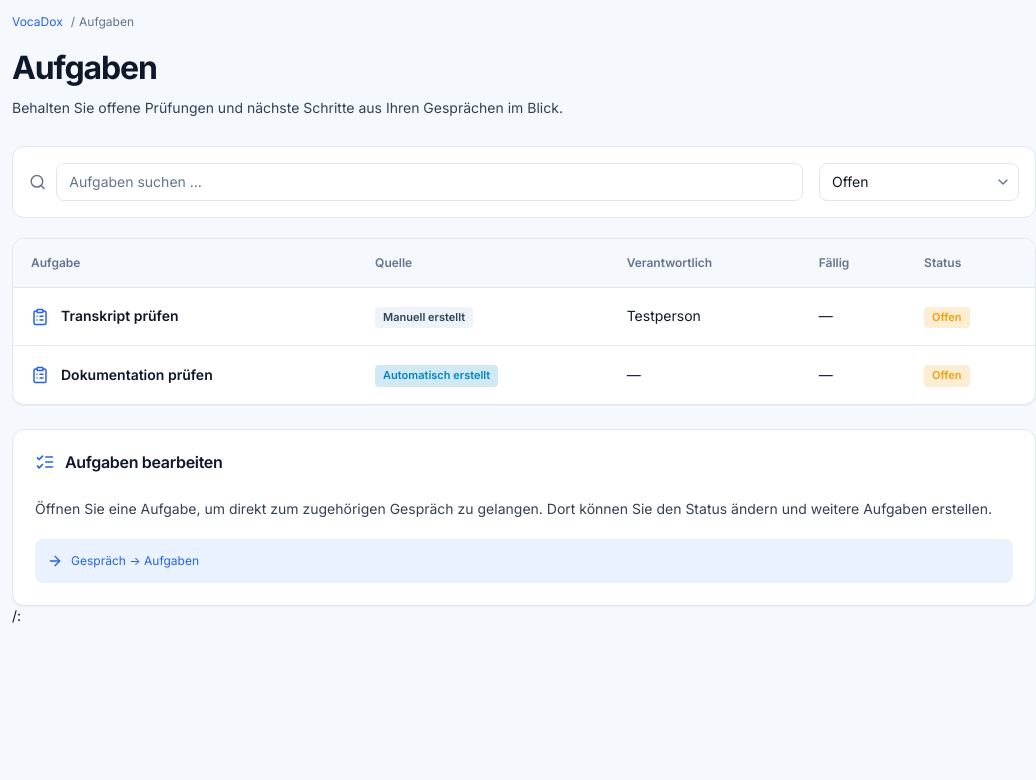
Scenario: task search › opens the conversation tasks tab
The image size is (1036, 780).
Click the text "Transkript prüfen" at point(105, 316), box [31, 307, 178, 326]
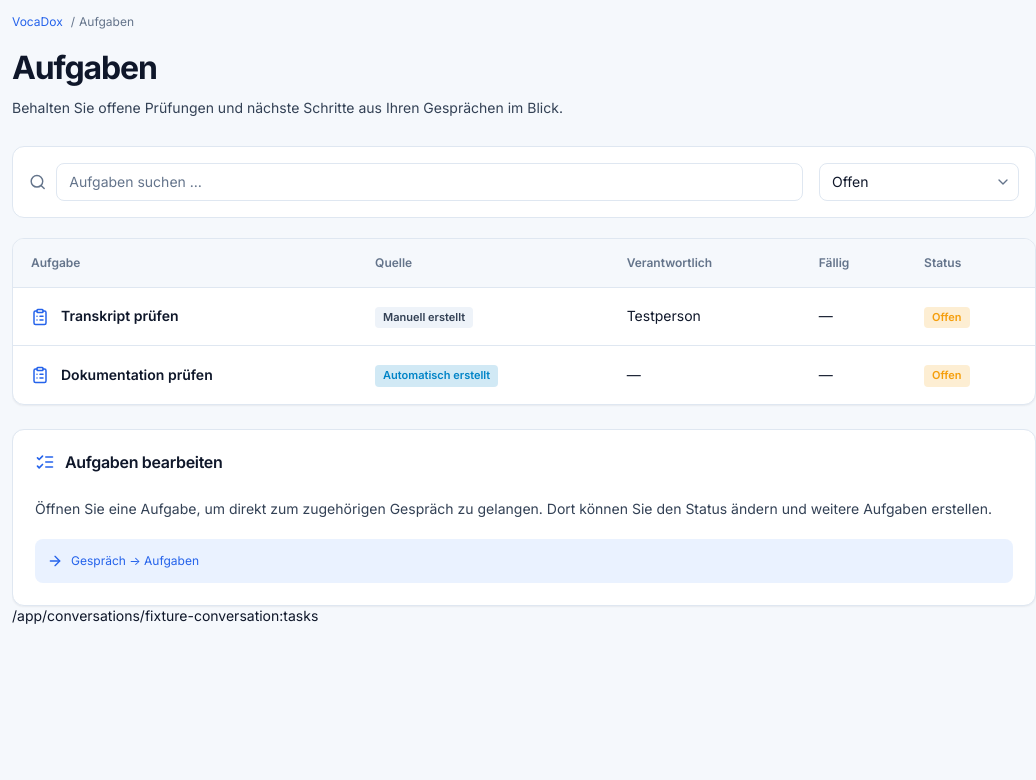
Expected: the text "/app/conversations/fixture-conversation:tasks" is shown, [12, 607, 318, 624]
